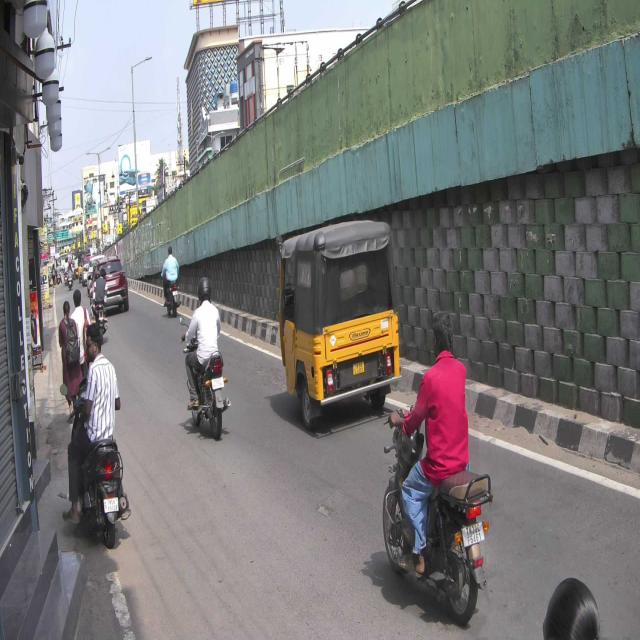single_rider: (383, 310, 490, 622), (179, 274, 232, 442)
